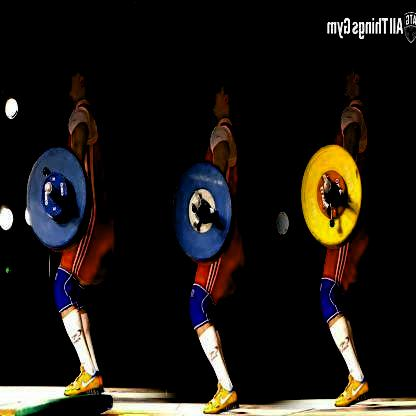Barbell: (320, 177, 333, 196), (191, 193, 203, 211), (42, 179, 53, 197)
